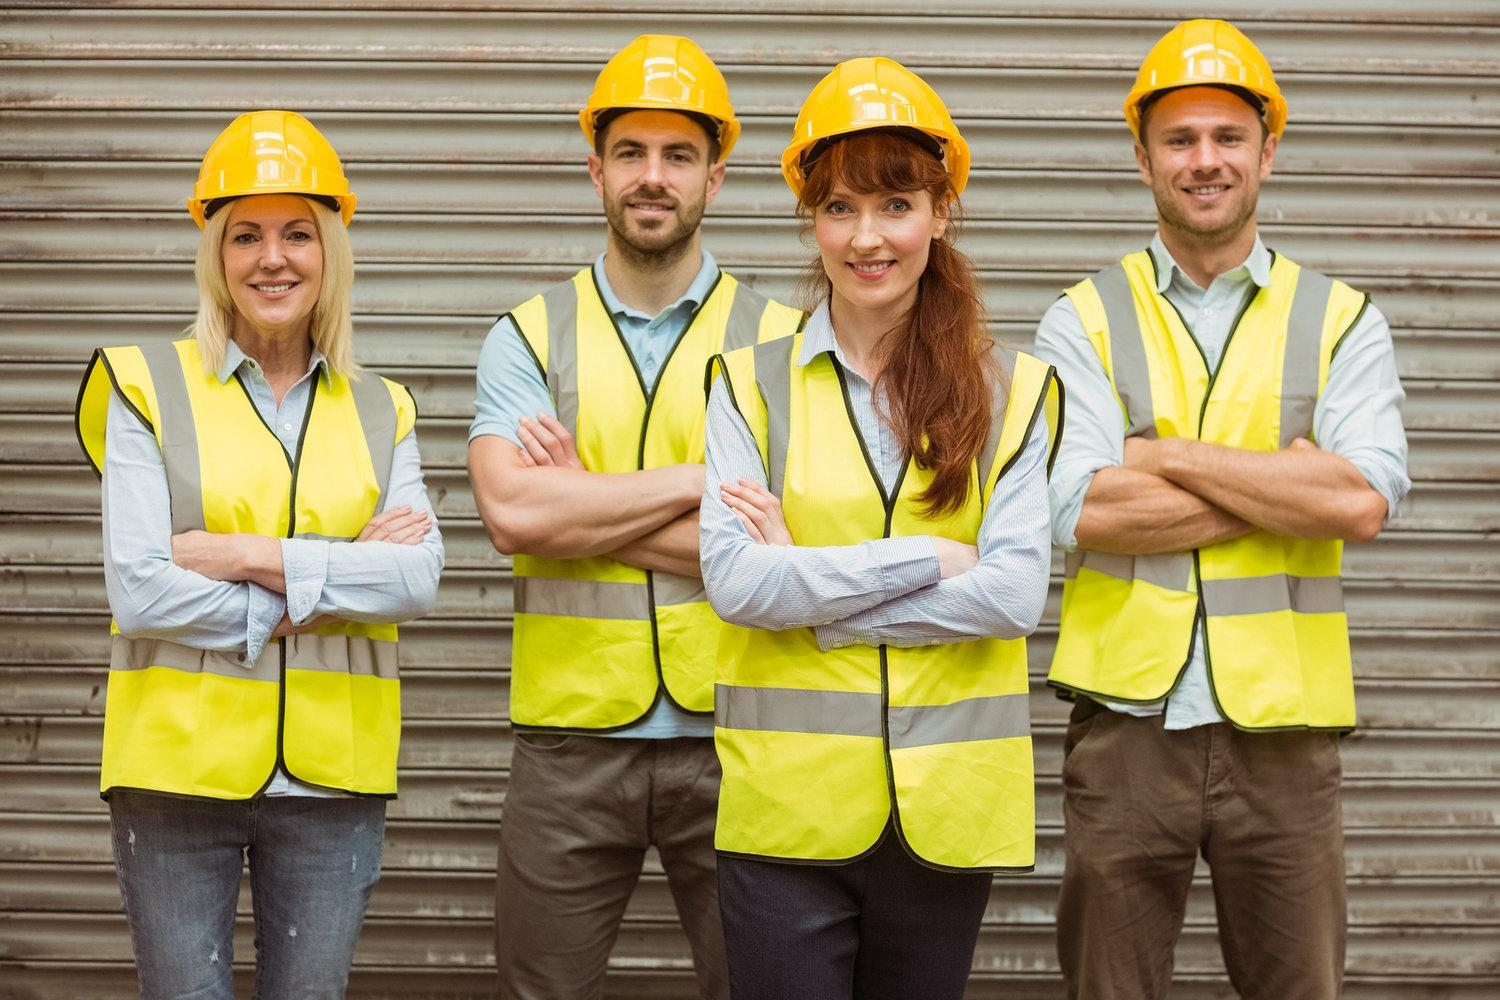helmet: (781, 55, 974, 203), (1123, 17, 1290, 151), (580, 31, 743, 165), (184, 107, 360, 227)
